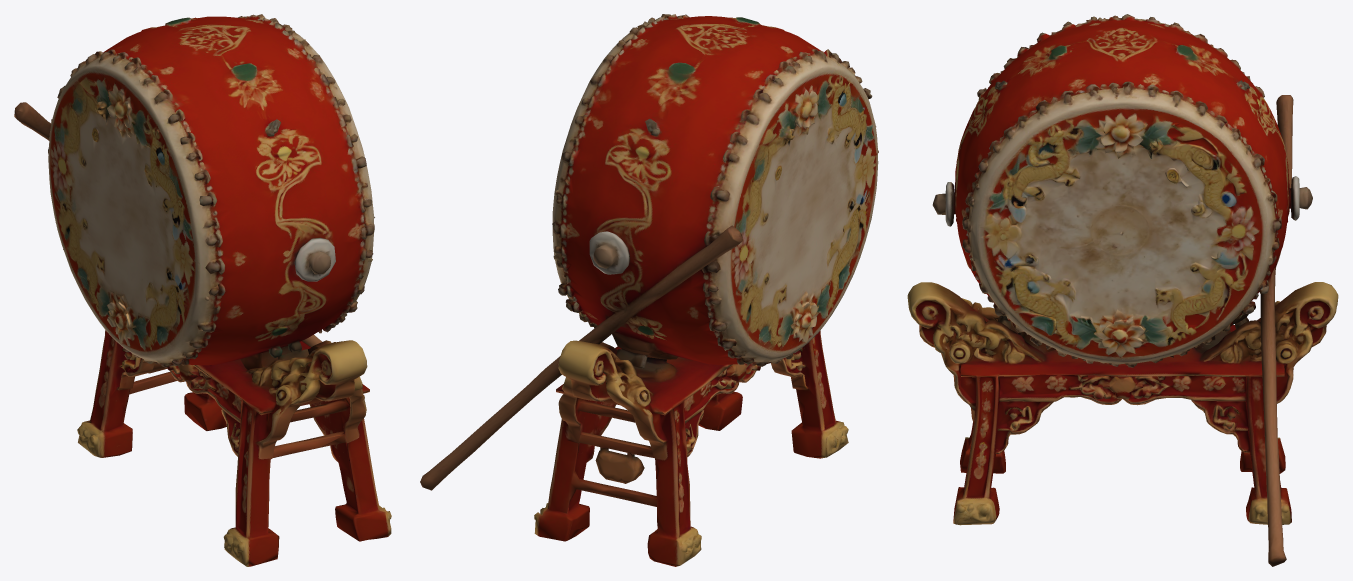
Rendered from monastery_drum.glb.
3 views of the same model, side by side, from view 1: azimuth 30°, elevation 25°; view 2: azimuth 150°, elevation 25°; view 3: azimuth 270°, elevation 25° (orthographic). The views are drawn at different scales.
Visible parts, largest first — view 1: tripo_node_305a29f2-cd26-4444-87be-d19820087b62; view 2: tripo_node_305a29f2-cd26-4444-87be-d19820087b62; view 3: tripo_node_305a29f2-cd26-4444-87be-d19820087b62.
Boxes of the visible parts, <box> form: tripo_node_305a29f2-cd26-4444-87be-d19820087b62: <box>14,14,391,566</box>; tripo_node_305a29f2-cd26-4444-87be-d19820087b62: <box>420,14,878,566</box>; tripo_node_305a29f2-cd26-4444-87be-d19820087b62: <box>907,14,1338,566</box>.
Bounding box in the file's own units: 0.625 × 0.85 × 0.7509.
Materials: 1 (1 with a texture image).
